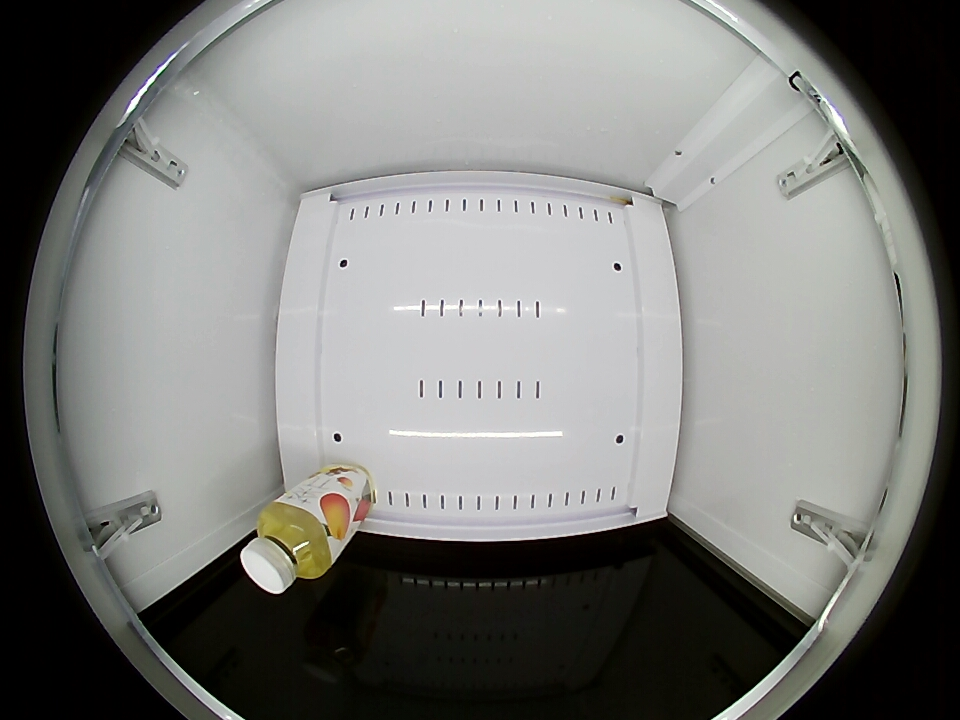chapai2: (241, 500, 336, 594)
